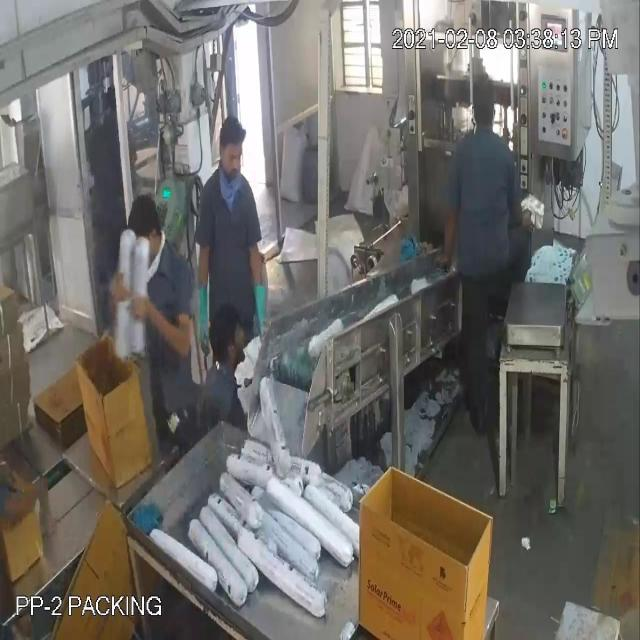No_Gloves: (24, 76, 263, 487)
